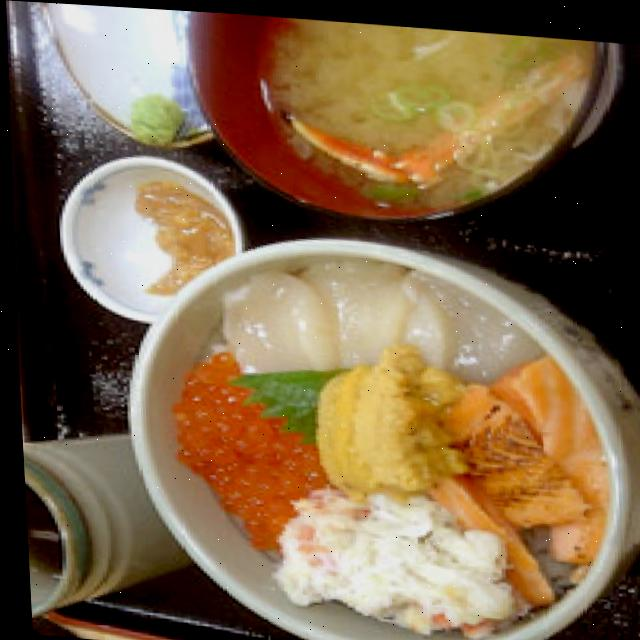刺身生食: (114, 215, 640, 640)
